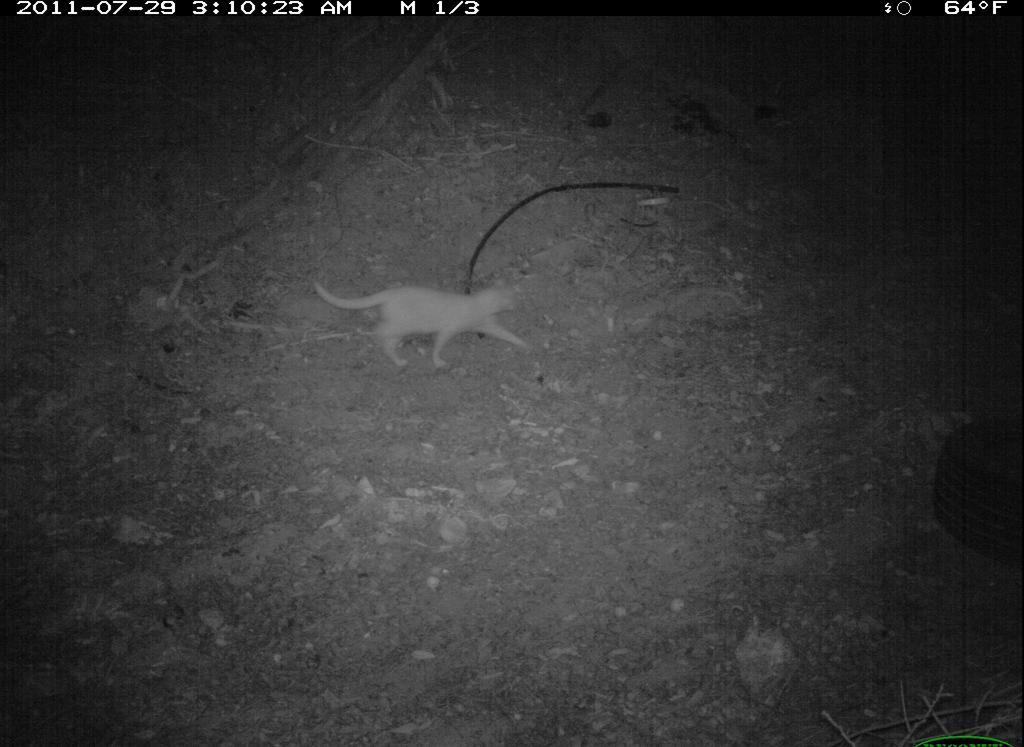cat: (313, 276, 528, 368)
